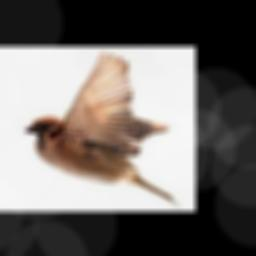Sparrow: (25, 50, 180, 206)
